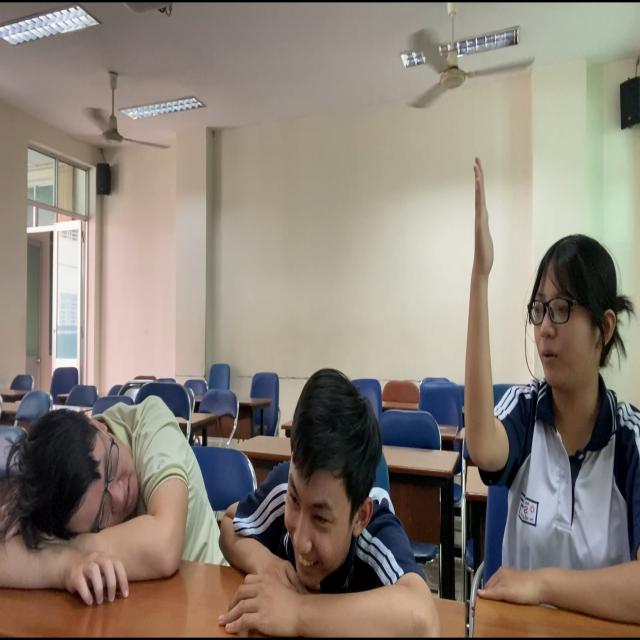raise_hand: (462, 148, 640, 640)
sleep: (1, 377, 225, 621)
